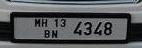1: (53, 16, 58, 27)
3: (81, 20, 92, 36), (58, 17, 65, 27)
4: (92, 20, 103, 36), (72, 19, 82, 35)
8: (102, 20, 112, 35)
B: (42, 28, 50, 37)
H: (40, 16, 47, 27)
M: (33, 17, 40, 26)
N: (49, 27, 58, 38)
